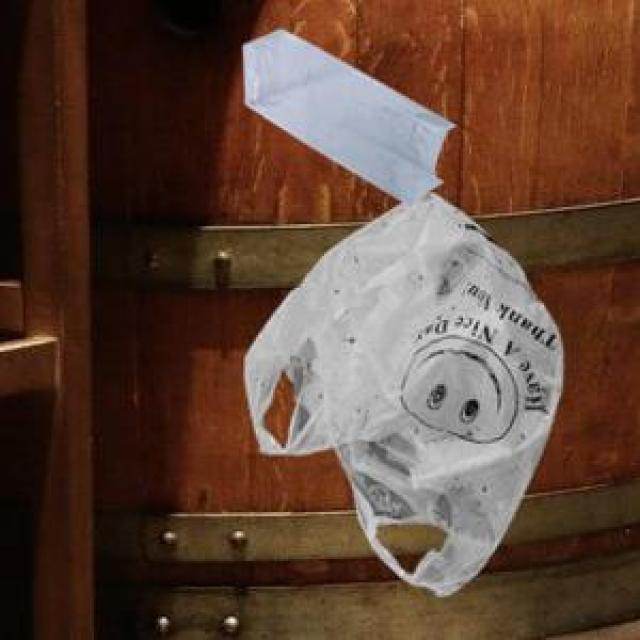waste: (244, 30, 562, 596)
